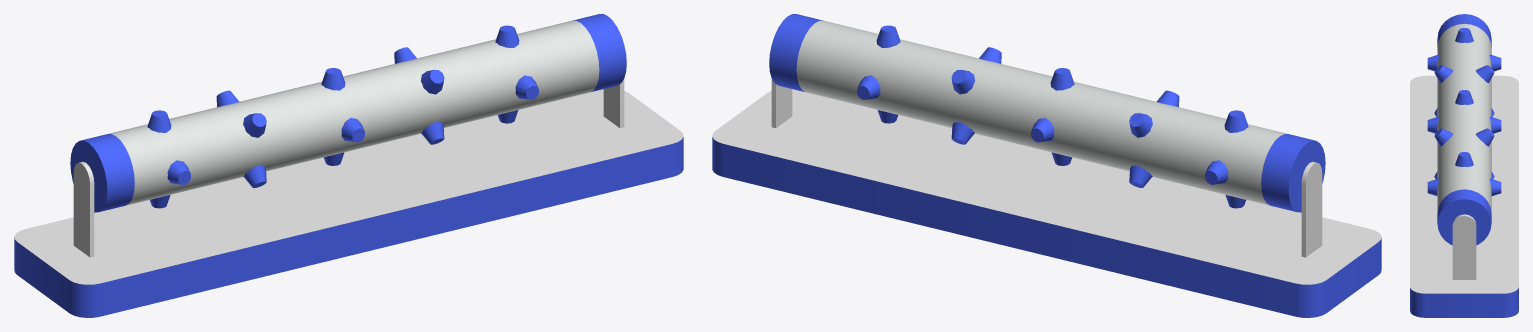
The model's file is Spike Bar Blue.fbx.
The picture shows the model from 3 angles, left to right: view 1: azimuth 30°, elevation 25°; view 2: azimuth 150°, elevation 25°; view 3: azimuth 270°, elevation 25°; orthographic projection. The views are drawn at different scales.
Visible parts, largest first — view 1: Spike Bar Base Blue, Spike Bar Blue; view 2: Spike Bar Base Blue, Spike Bar Blue; view 3: Spike Bar Base Blue, Spike Bar Blue.
Boxes of the visible parts, box(x1,y1,x2,y2) form: Spike Bar Base Blue: box(14, 79, 683, 317); Spike Bar Blue: box(70, 14, 626, 212); Spike Bar Base Blue: box(712, 79, 1381, 317); Spike Bar Blue: box(769, 14, 1325, 212); Spike Bar Base Blue: box(1410, 75, 1518, 317); Spike Bar Blue: box(1427, 14, 1501, 245).
Bounding box in the file's own units: 6.95 × 1.68 × 1.47.
